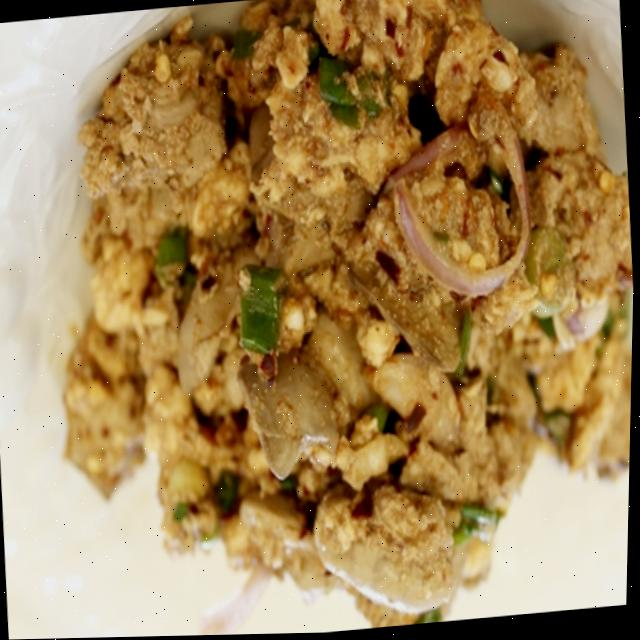鸡肉料理 含炸鸡: (11, 0, 640, 636)
